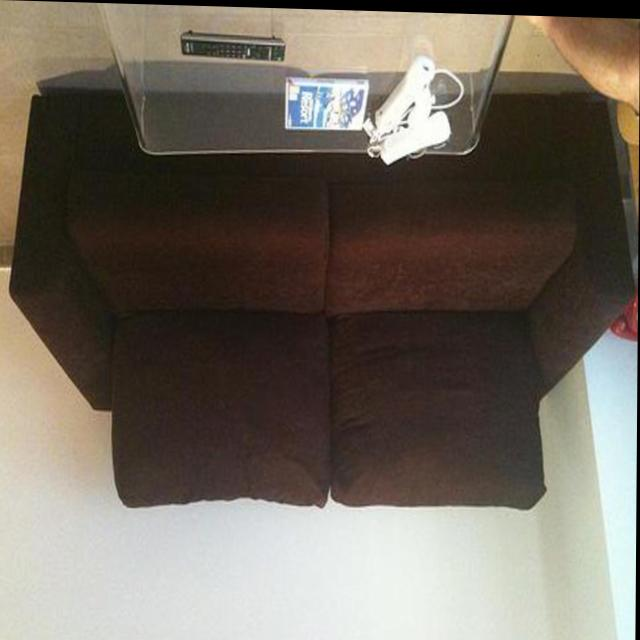Sofa: (21, 87, 631, 512)
